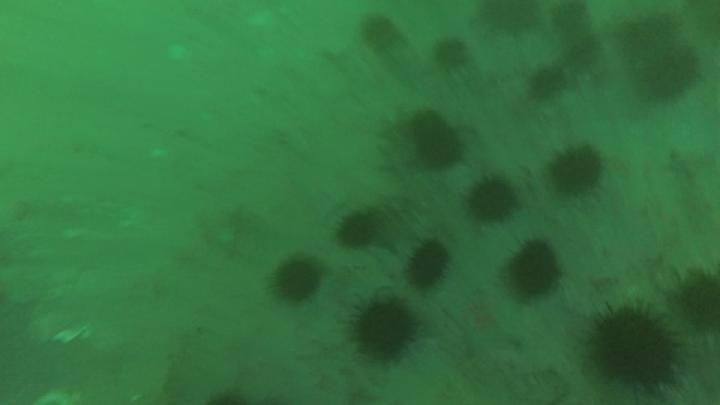echinus: (594, 307, 674, 387), (354, 302, 411, 357), (411, 112, 462, 169), (511, 242, 559, 300), (550, 145, 600, 197), (648, 52, 697, 103), (476, 1, 541, 37), (407, 240, 450, 294), (685, 269, 720, 328), (469, 179, 514, 223), (275, 261, 320, 303), (559, 34, 601, 70), (527, 65, 566, 102), (336, 215, 376, 250), (361, 17, 396, 47), (435, 41, 469, 66)
starfish: (446, 287, 526, 354), (671, 148, 705, 177)
